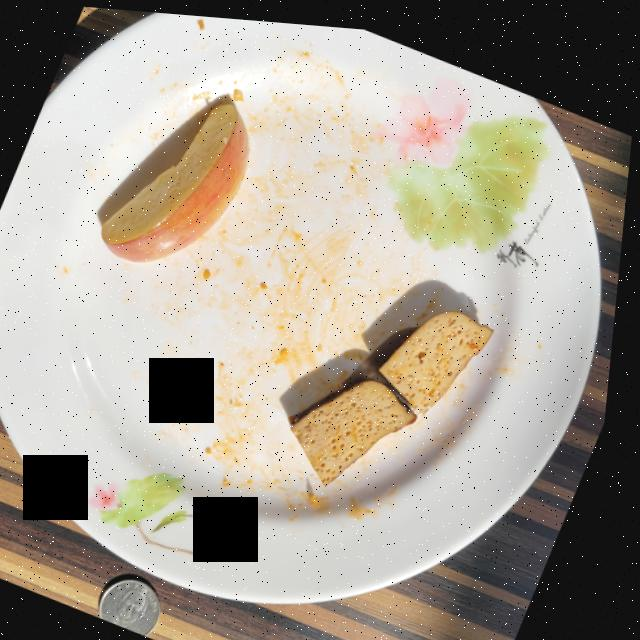apple -sliced-: (106, 98, 251, 258)
coin: (111, 575, 172, 632)
firm tofu: (299, 301, 498, 478)
